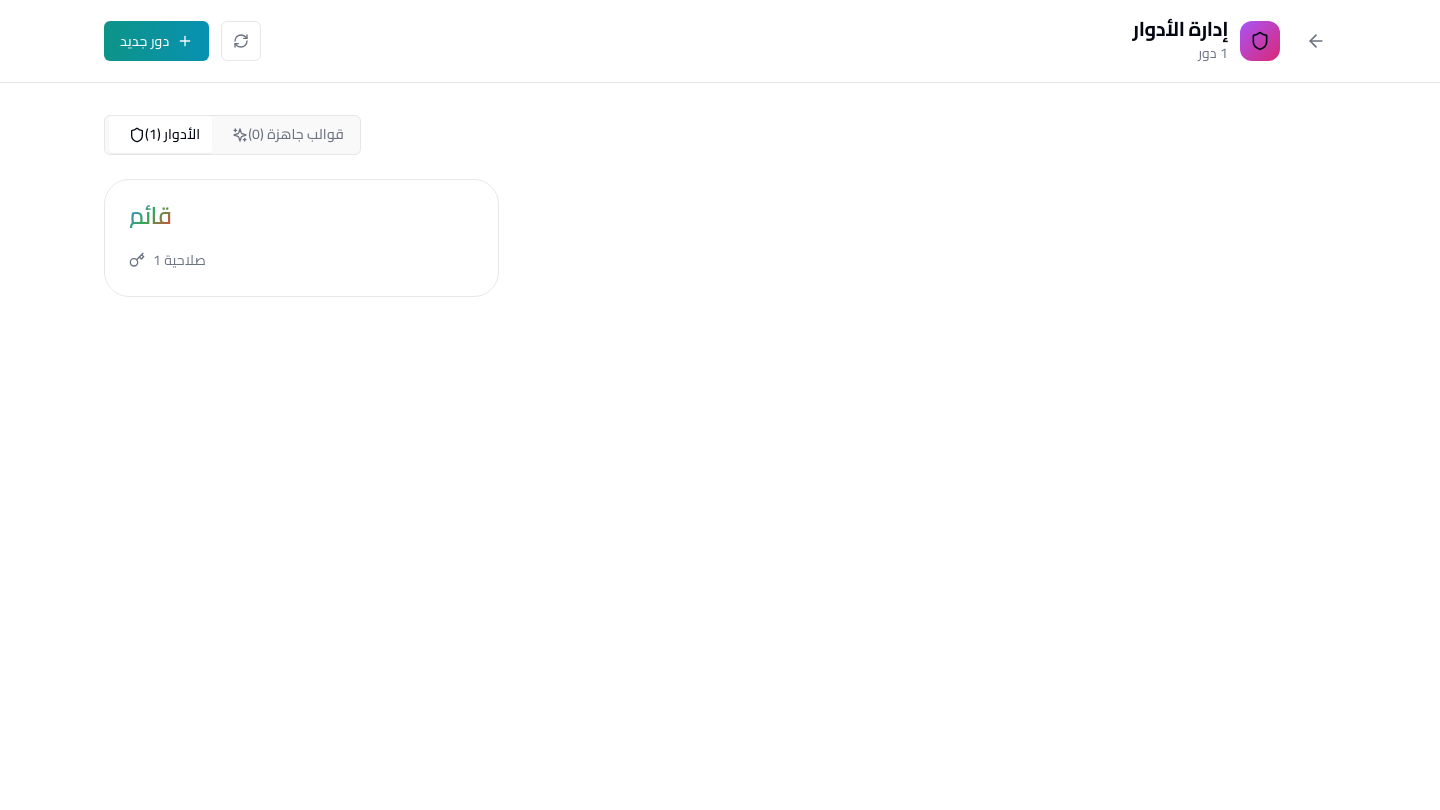
it: roles page — Migration 174 RPC path › toggles a permission row without re-entering the render cycle
The width and height of the screenshot is (1440, 810).
Expected: the heading "قائم" is shown, [129,204,172,228]
Click the button "دور جديد": (157, 41) [104,21,209,61]
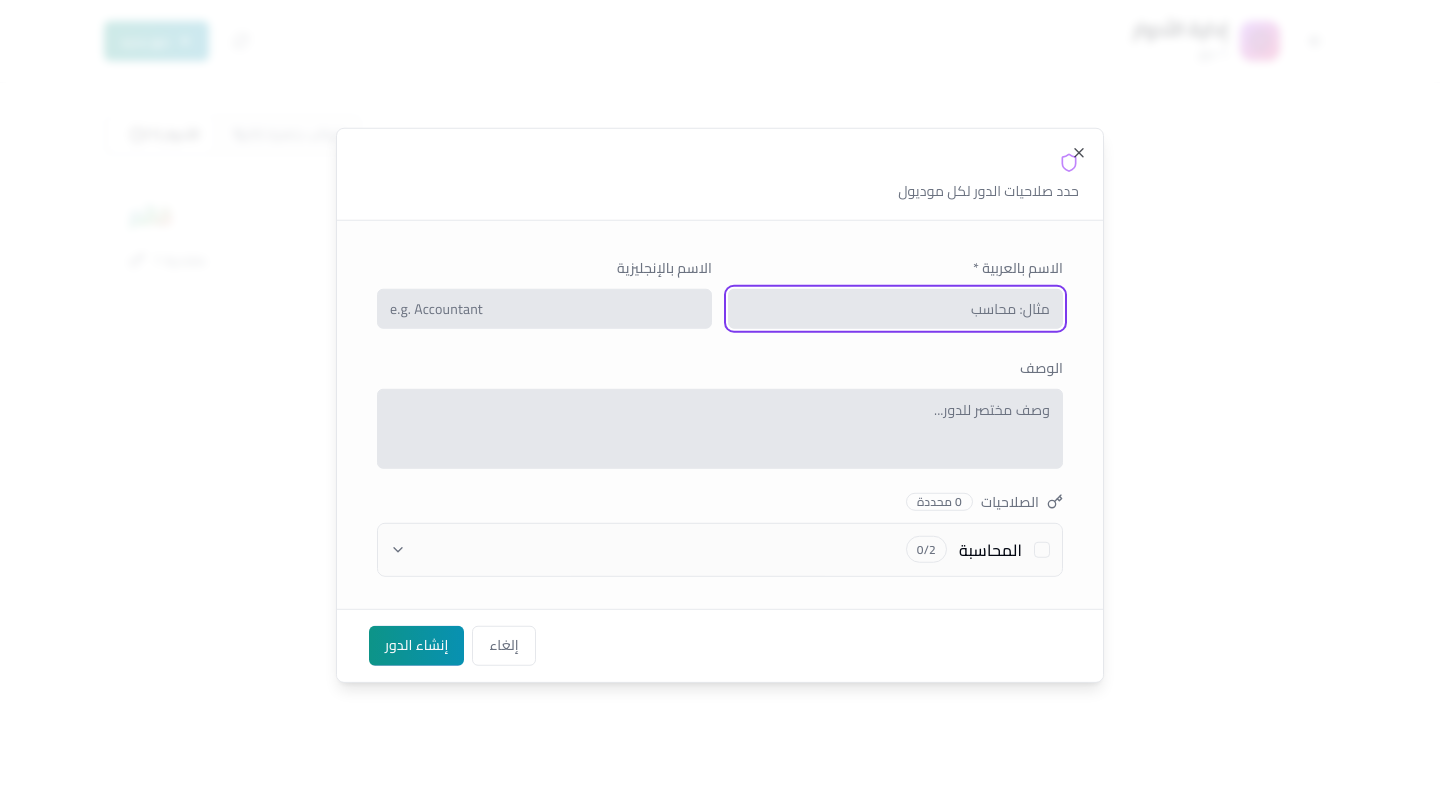
Click the text "المحاسبة": (990, 549) [959,535,1022,563]
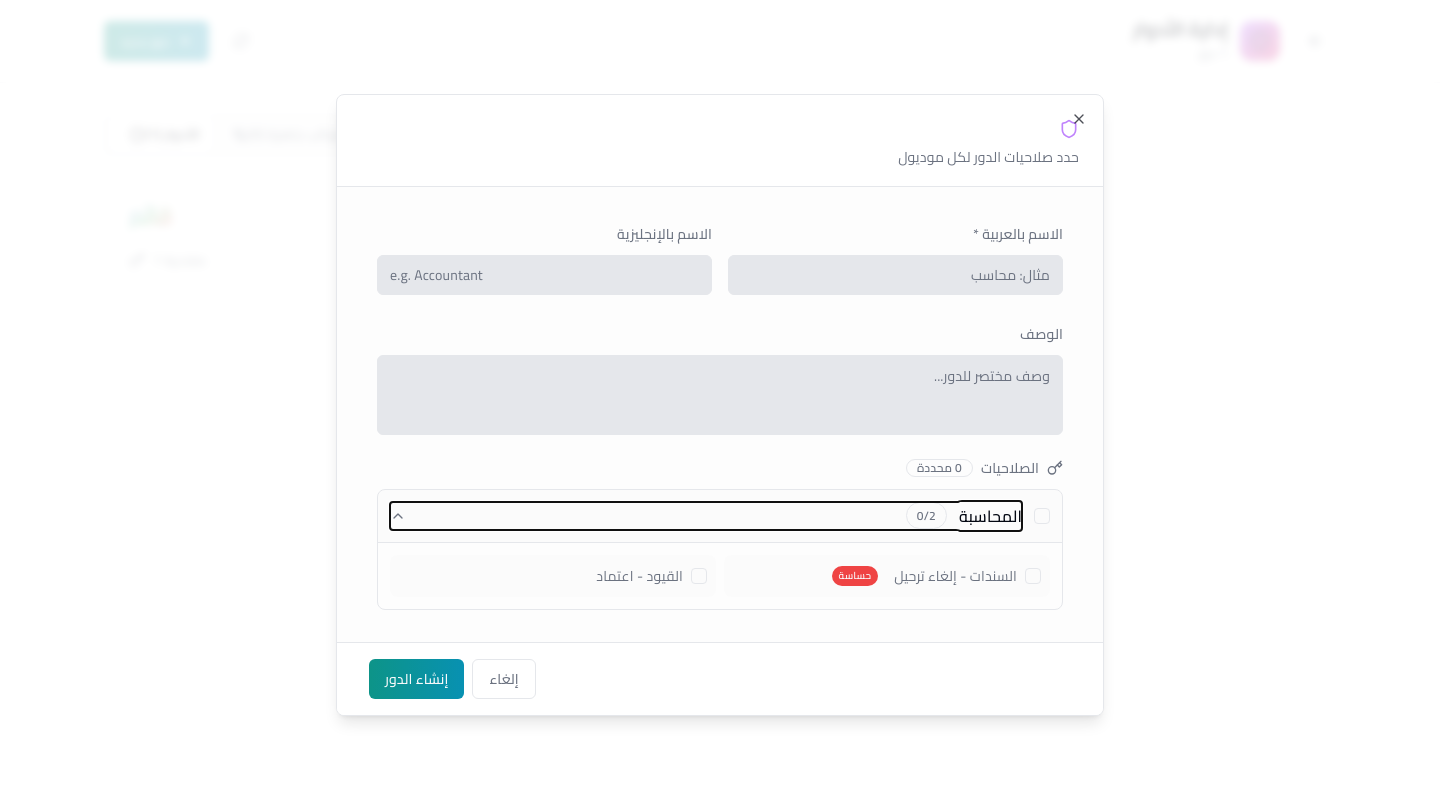
Click the button "القيود - اعتماد": (665, 576) [390,554,716,597]
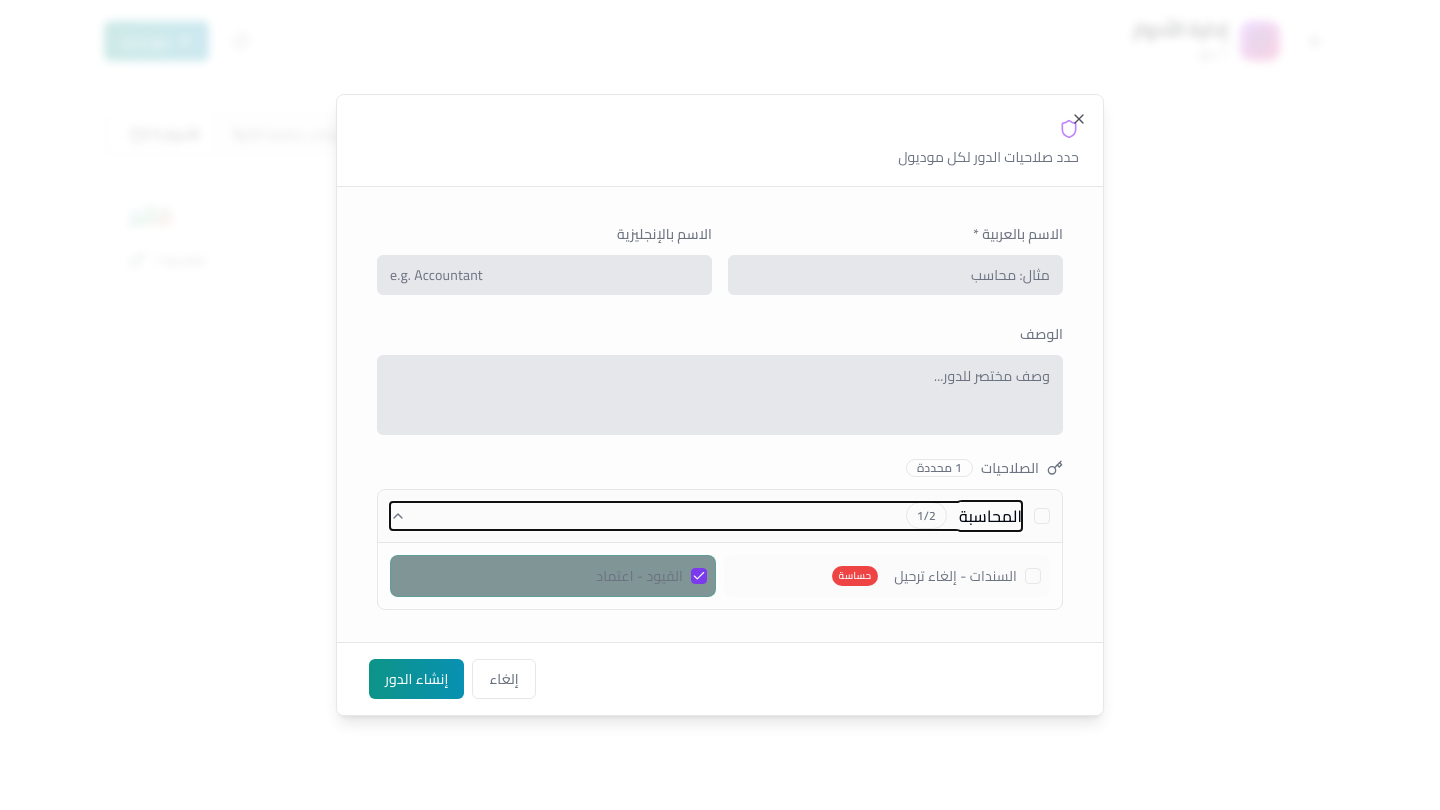
Expected: the dialog "إنشاء دور جديد" is shown, [336,94,1104,716]
Expected: the text "1 محددة" is shown, [906,458,973,476]
